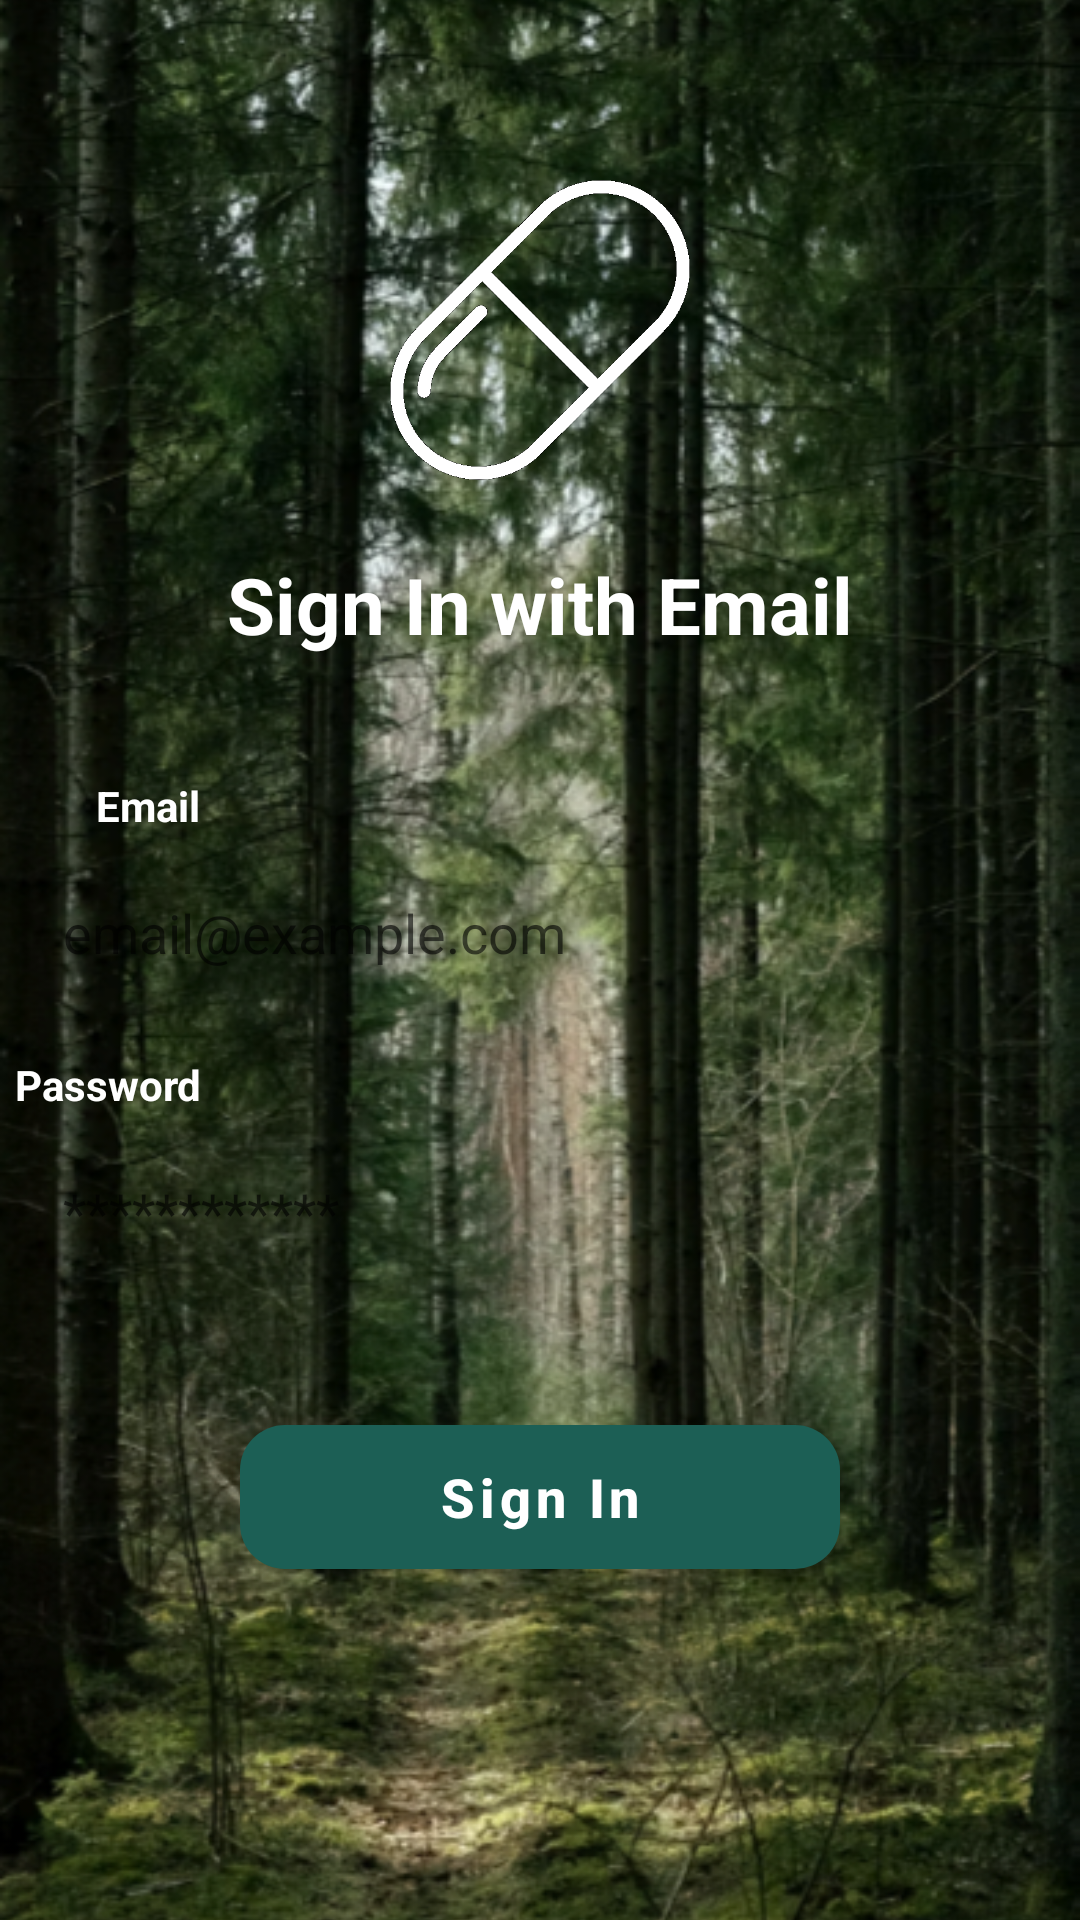

Screen size 1080*1920. Icon name, then its center in pixels as (x,y):
pill: (540,330)
